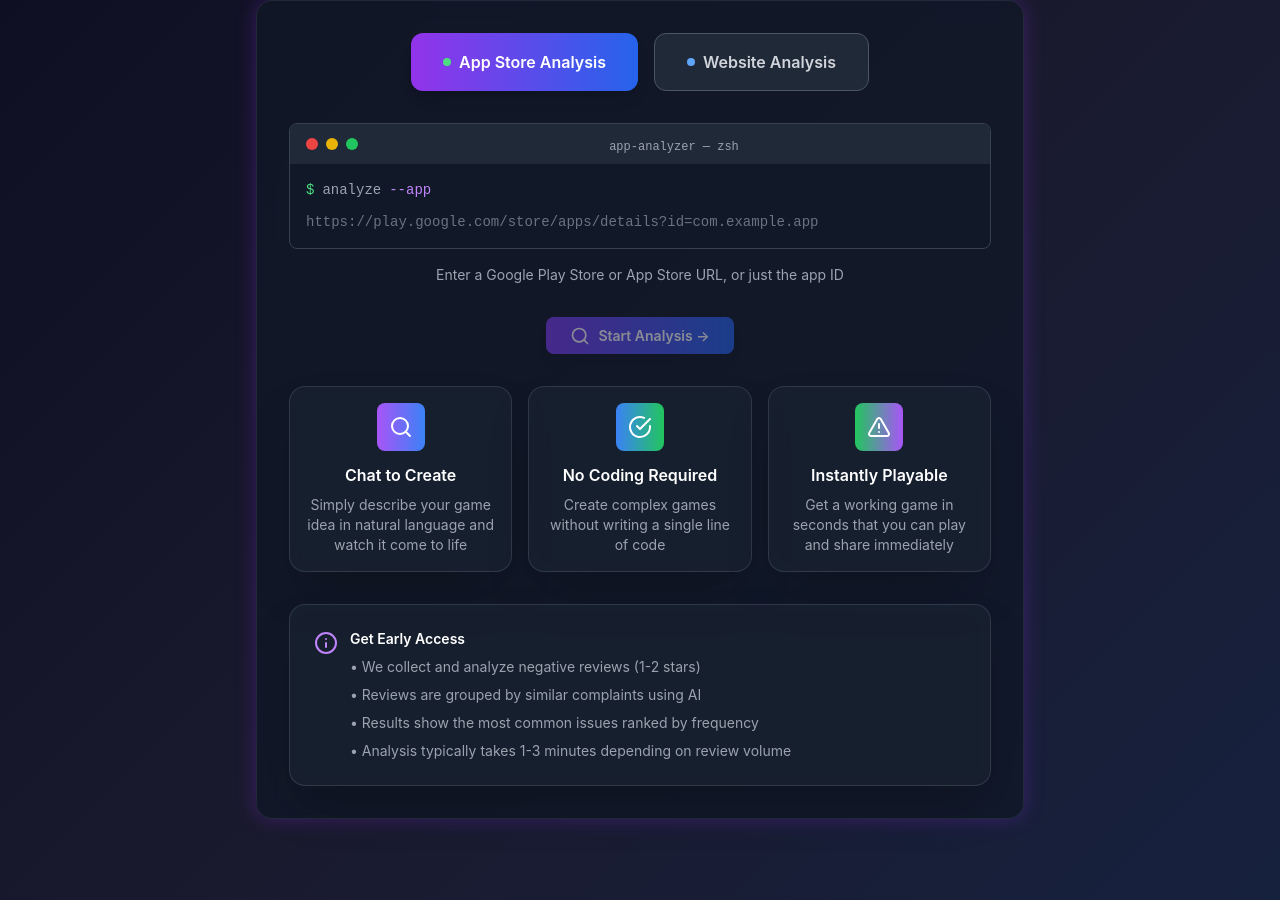
it: AnalysisForm › switches analysis type when buttons are clicked
Step 1. Click the button "Website Analysis" → (761, 62), box [654,33,869,91]
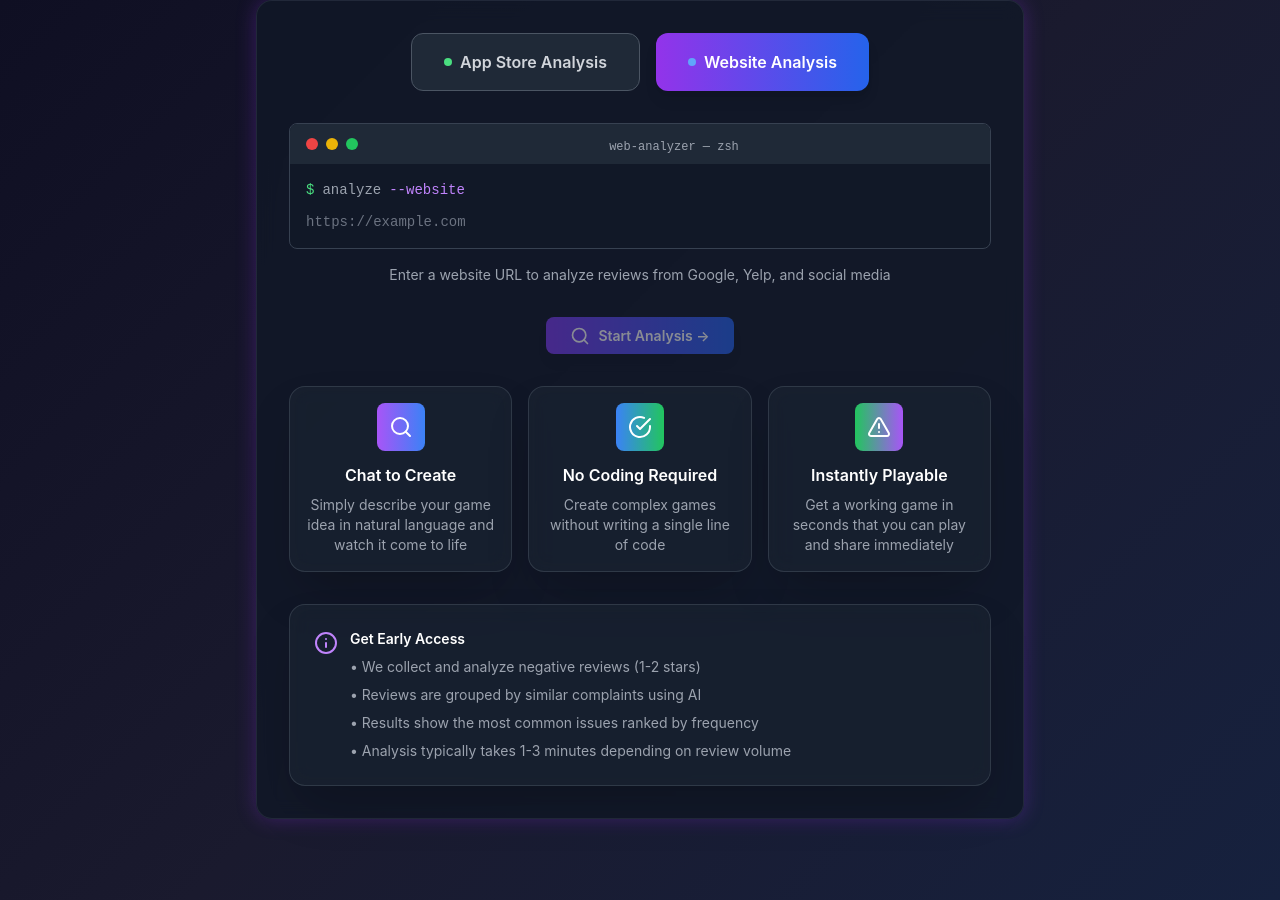
Expected: the field with placeholder "https://example.com" is shown, [306,212,974,232]
